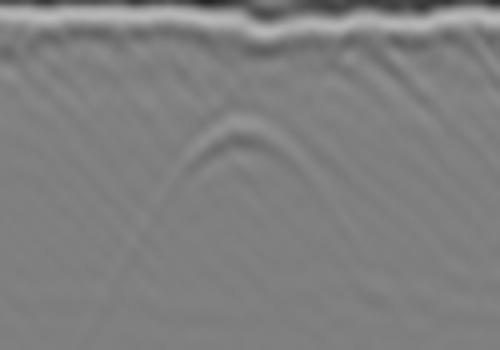hyperbola: (161, 104, 336, 221)
